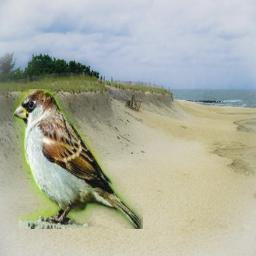Sparrow: (13, 89, 143, 229)
